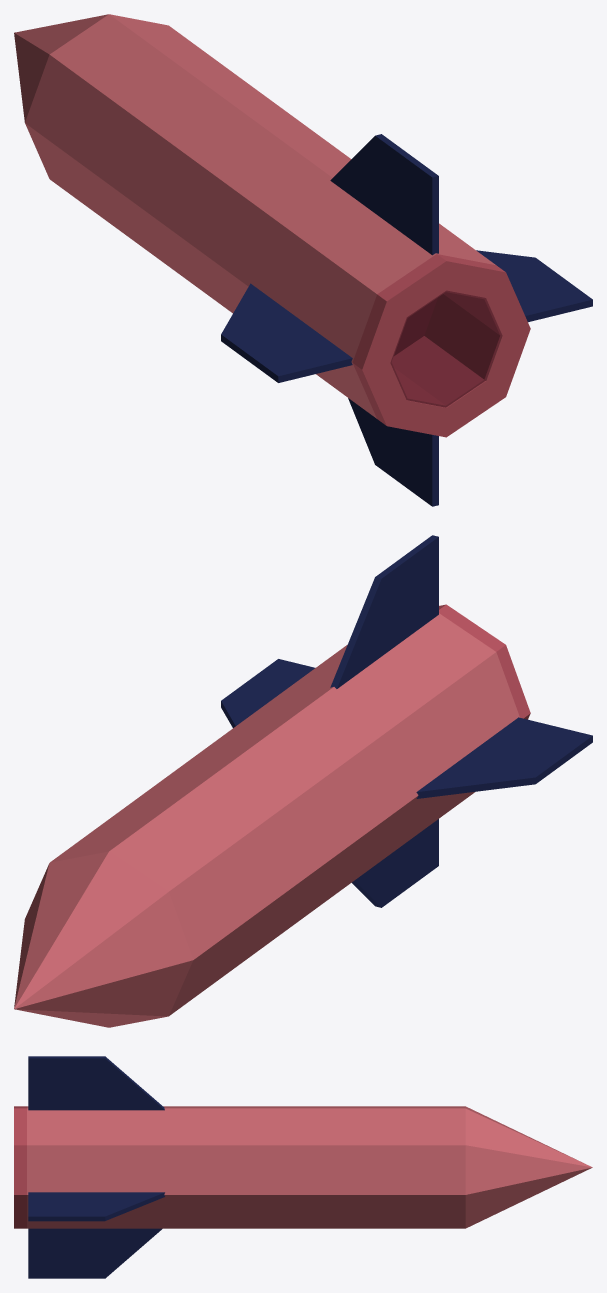
File: missile.fbx
3 views of the same model, one above another, from view 1: azimuth 30°, elevation 25°; view 2: azimuth 150°, elevation 25°; view 3: azimuth 270°, elevation 25° (orthographic). The views are drawn at different scales.
Visible parts, largest first — view 1: missile; view 2: missile; view 3: missile.
Boxes of the visible parts, x1=… form: missile: x1=14, y1=14, x2=592, y2=506; missile: x1=14, y1=535, x2=592, y2=1027; missile: x1=14, y1=1056, x2=592, y2=1278.
Size of the model in its own units: 1.68 by 1.68 by 4.
